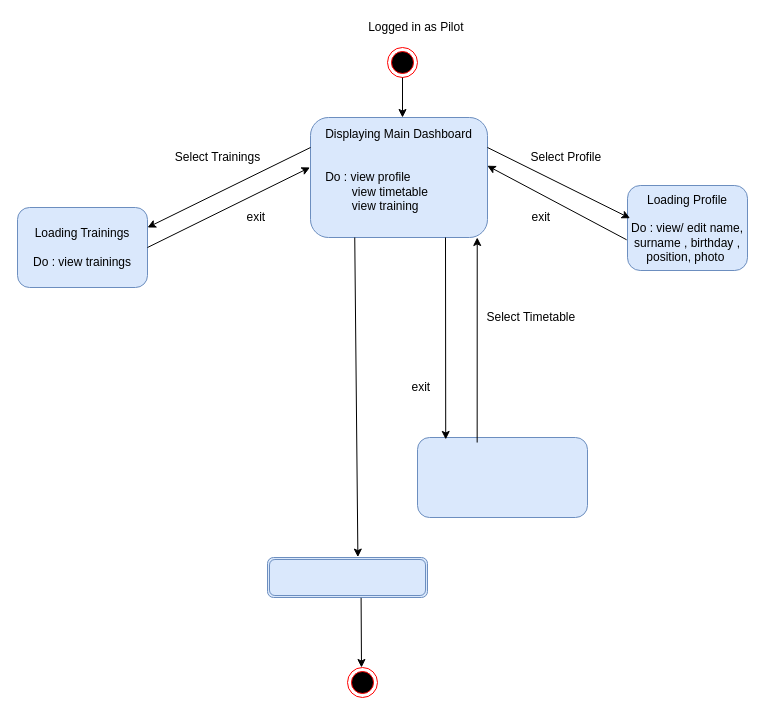
Some shapes in this 765 by 715 pixel diagram are drawn without their labels. Each missing label, with the centre of its shape:
"Loading Timetable Do : view timetable" goes at pixel 502 477.
"Signing out" goes at pixel 347 577.
